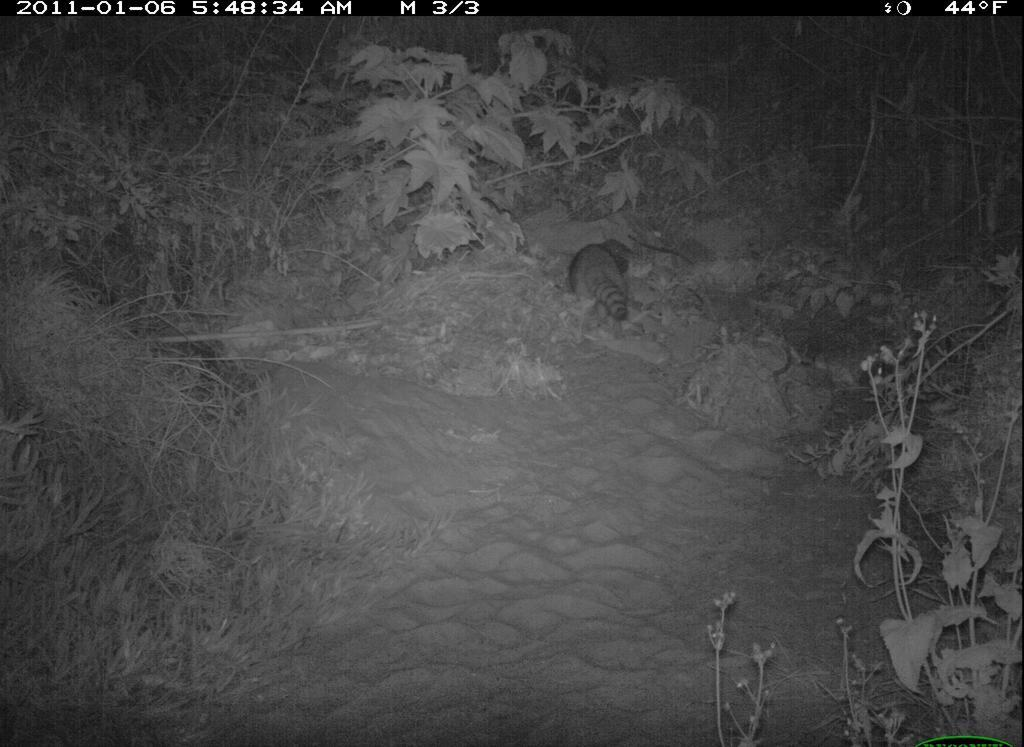raccoon: (568, 236, 647, 324)
